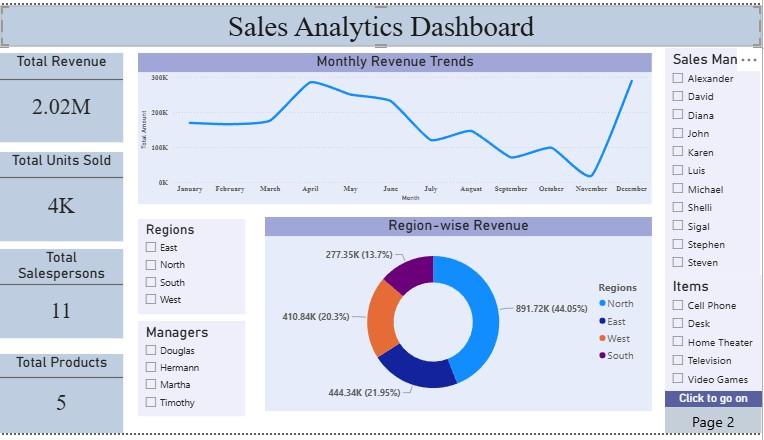

What the dashboard file says about the page in this screenshot:
{"tool":"powerbi","page":{"name":"Page 1","canvas":[1280,720],"ordinal":0},"visuals":[{"type":"cardVisual","title":"Total Revenue","fields":{"Data":["Sum(Table2.Total Amount)"]},"box":[0,80.6,206.6,149.5],"z":0},{"type":"cardVisual","title":"Total Units Sold","fields":{"Data":["Sum(Table2.Units)"]},"box":[0,246.9,206.6,149.5],"z":1000},{"type":"cardVisual","title":"Total Salespersons","fields":{"Data":["Count(Table2.SalesMan)"]},"box":[0,409.9,206.6,150],"z":2000},{"type":"cardVisual","title":"Total Products","fields":{"Data":["Count(Table2.Item)"]},"box":[0,586.2,206.6,134],"z":3000},{"type":"lineChart","title":"Monthly Revenue Trends","fields":{"Category":["Table2.OrderDate.Variation.Date Hierarchy.Month"],"Y":["Sum(Table2.Total Amount)"]},"box":[231.8,80.6,863.4,253.6],"z":4000},{"type":"donutChart","title":"Region-wise Revenue","fields":{"Category":["Table2.Region"],"Y":["Sum(Table2.Total Amount)"]},"box":[445.1,356.1,650.1,325.9],"z":5000},{"type":"slicer","fields":{"Values":["Table2.Region"]},"box":[231.8,359.5,179.7,159.6],"z":6000},{"type":"slicer","fields":{"Values":["Table2.Manager"]},"box":[231.8,530.8,179.7,159.6],"z":7000},{"type":"slicer","fields":{"Values":["Table2.Item"]},"box":[1117.1,453.5,162.9,199.9],"z":8000},{"type":"slicer","fields":{"Values":["Table2.SalesMan"]},"box":[1117.1,72.2,159.6,381.3],"z":9000},{"type":"shape","title":"SALES DASHBOARD","box":[0,0,1280,70.6],"z":10000},{"type":"shape","box":[0,109.2,206.6,31.9],"z":11000},{"type":"shape","box":[0,273.8,206.6,31.9],"z":12000},{"type":"shape","box":[0,453.5,206.6,31.9],"z":13000},{"type":"shape","box":[0,609.8,206.6,31.9],"z":14000},{"type":"pageNavigator","title":"Click to go on ","box":[1117.1,648.4,162.9,72.2],"z":15000}]}

Visuals, with their boxes in screenshot pixels (x1, y1, x2, y2), scaled from the page's 1280x720 canvas onto the 764x440 screenshot:
"Total Revenue" cardVisual: <box>0,49,123,141</box>
"Total Units Sold" cardVisual: <box>0,151,123,242</box>
"Total Salespersons" cardVisual: <box>0,250,123,342</box>
"Total Products" cardVisual: <box>0,358,123,439</box>
"Monthly Revenue Trends" lineChart: <box>138,49,654,204</box>
"Region-wise Revenue" donutChart: <box>266,218,654,417</box>
slicer - Table2.Region: <box>138,220,246,317</box>
slicer - Table2.Manager: <box>138,324,246,422</box>
slicer - Table2.Item: <box>667,277,763,399</box>
slicer - Table2.SalesMan: <box>667,44,762,277</box>
"SALES DASHBOARD" shape: <box>0,0,763,43</box>
shape: <box>0,67,123,86</box>
shape: <box>0,167,123,187</box>
shape: <box>0,277,123,297</box>
shape: <box>0,373,123,392</box>
"Click to go on " pageNavigator: <box>667,396,763,439</box>
